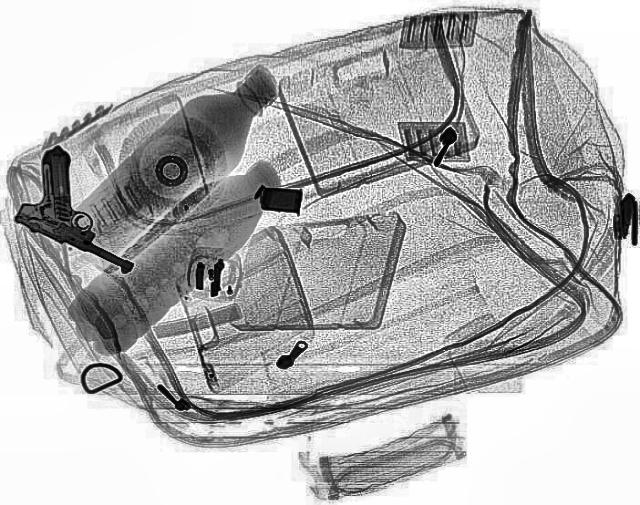Gun: (8, 154, 184, 274)
